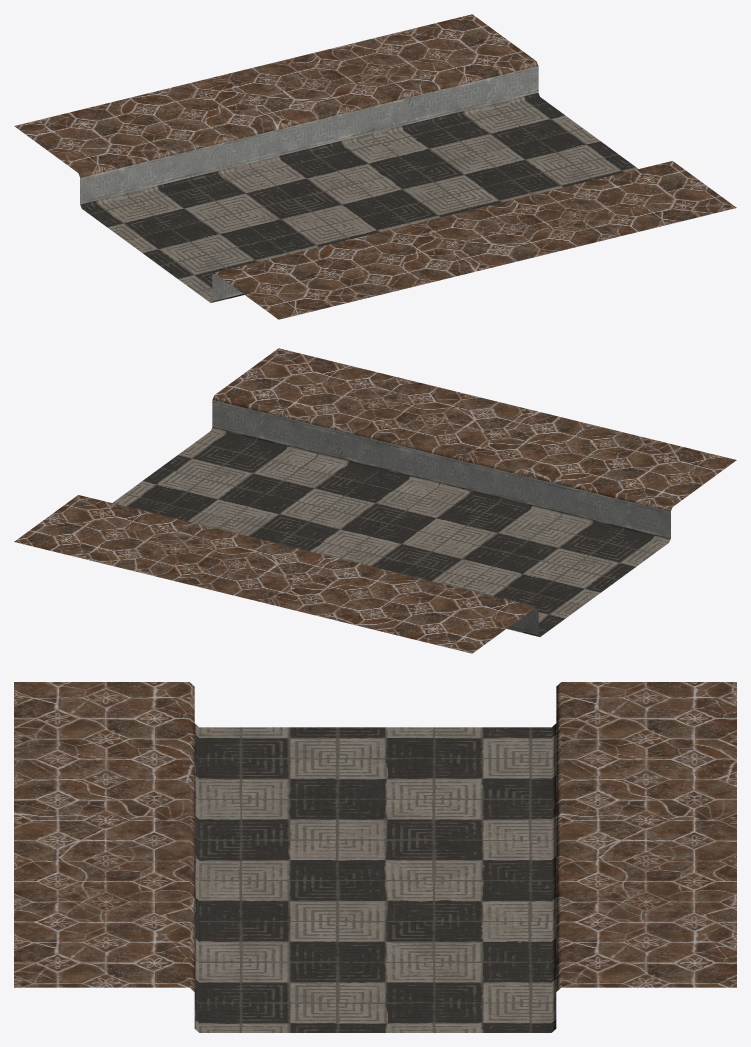
The model's file is FBX_Floor_Sunk_Straight.fbx.
The picture shows the model from 3 angles, top to bottom: view 1: azimuth 30°, elevation 25°; view 2: azimuth 150°, elevation 25°; view 3: azimuth 270°, elevation 25°; orthographic projection. The views are drawn at different scales.
Visible parts, largest first — view 1: Floor_Sunk_Straight; view 2: Floor_Sunk_Straight; view 3: Floor_Sunk_Straight.
Boxes of the visible parts, x1,y1,x2,y2 form: Floor_Sunk_Straight: (14, 14, 736, 319); Floor_Sunk_Straight: (14, 348, 736, 653); Floor_Sunk_Straight: (14, 682, 736, 1032).
Size of the model in its own units: 1000 by 68.92 by 1000.
Materials: 3 (3 with a texture image).
